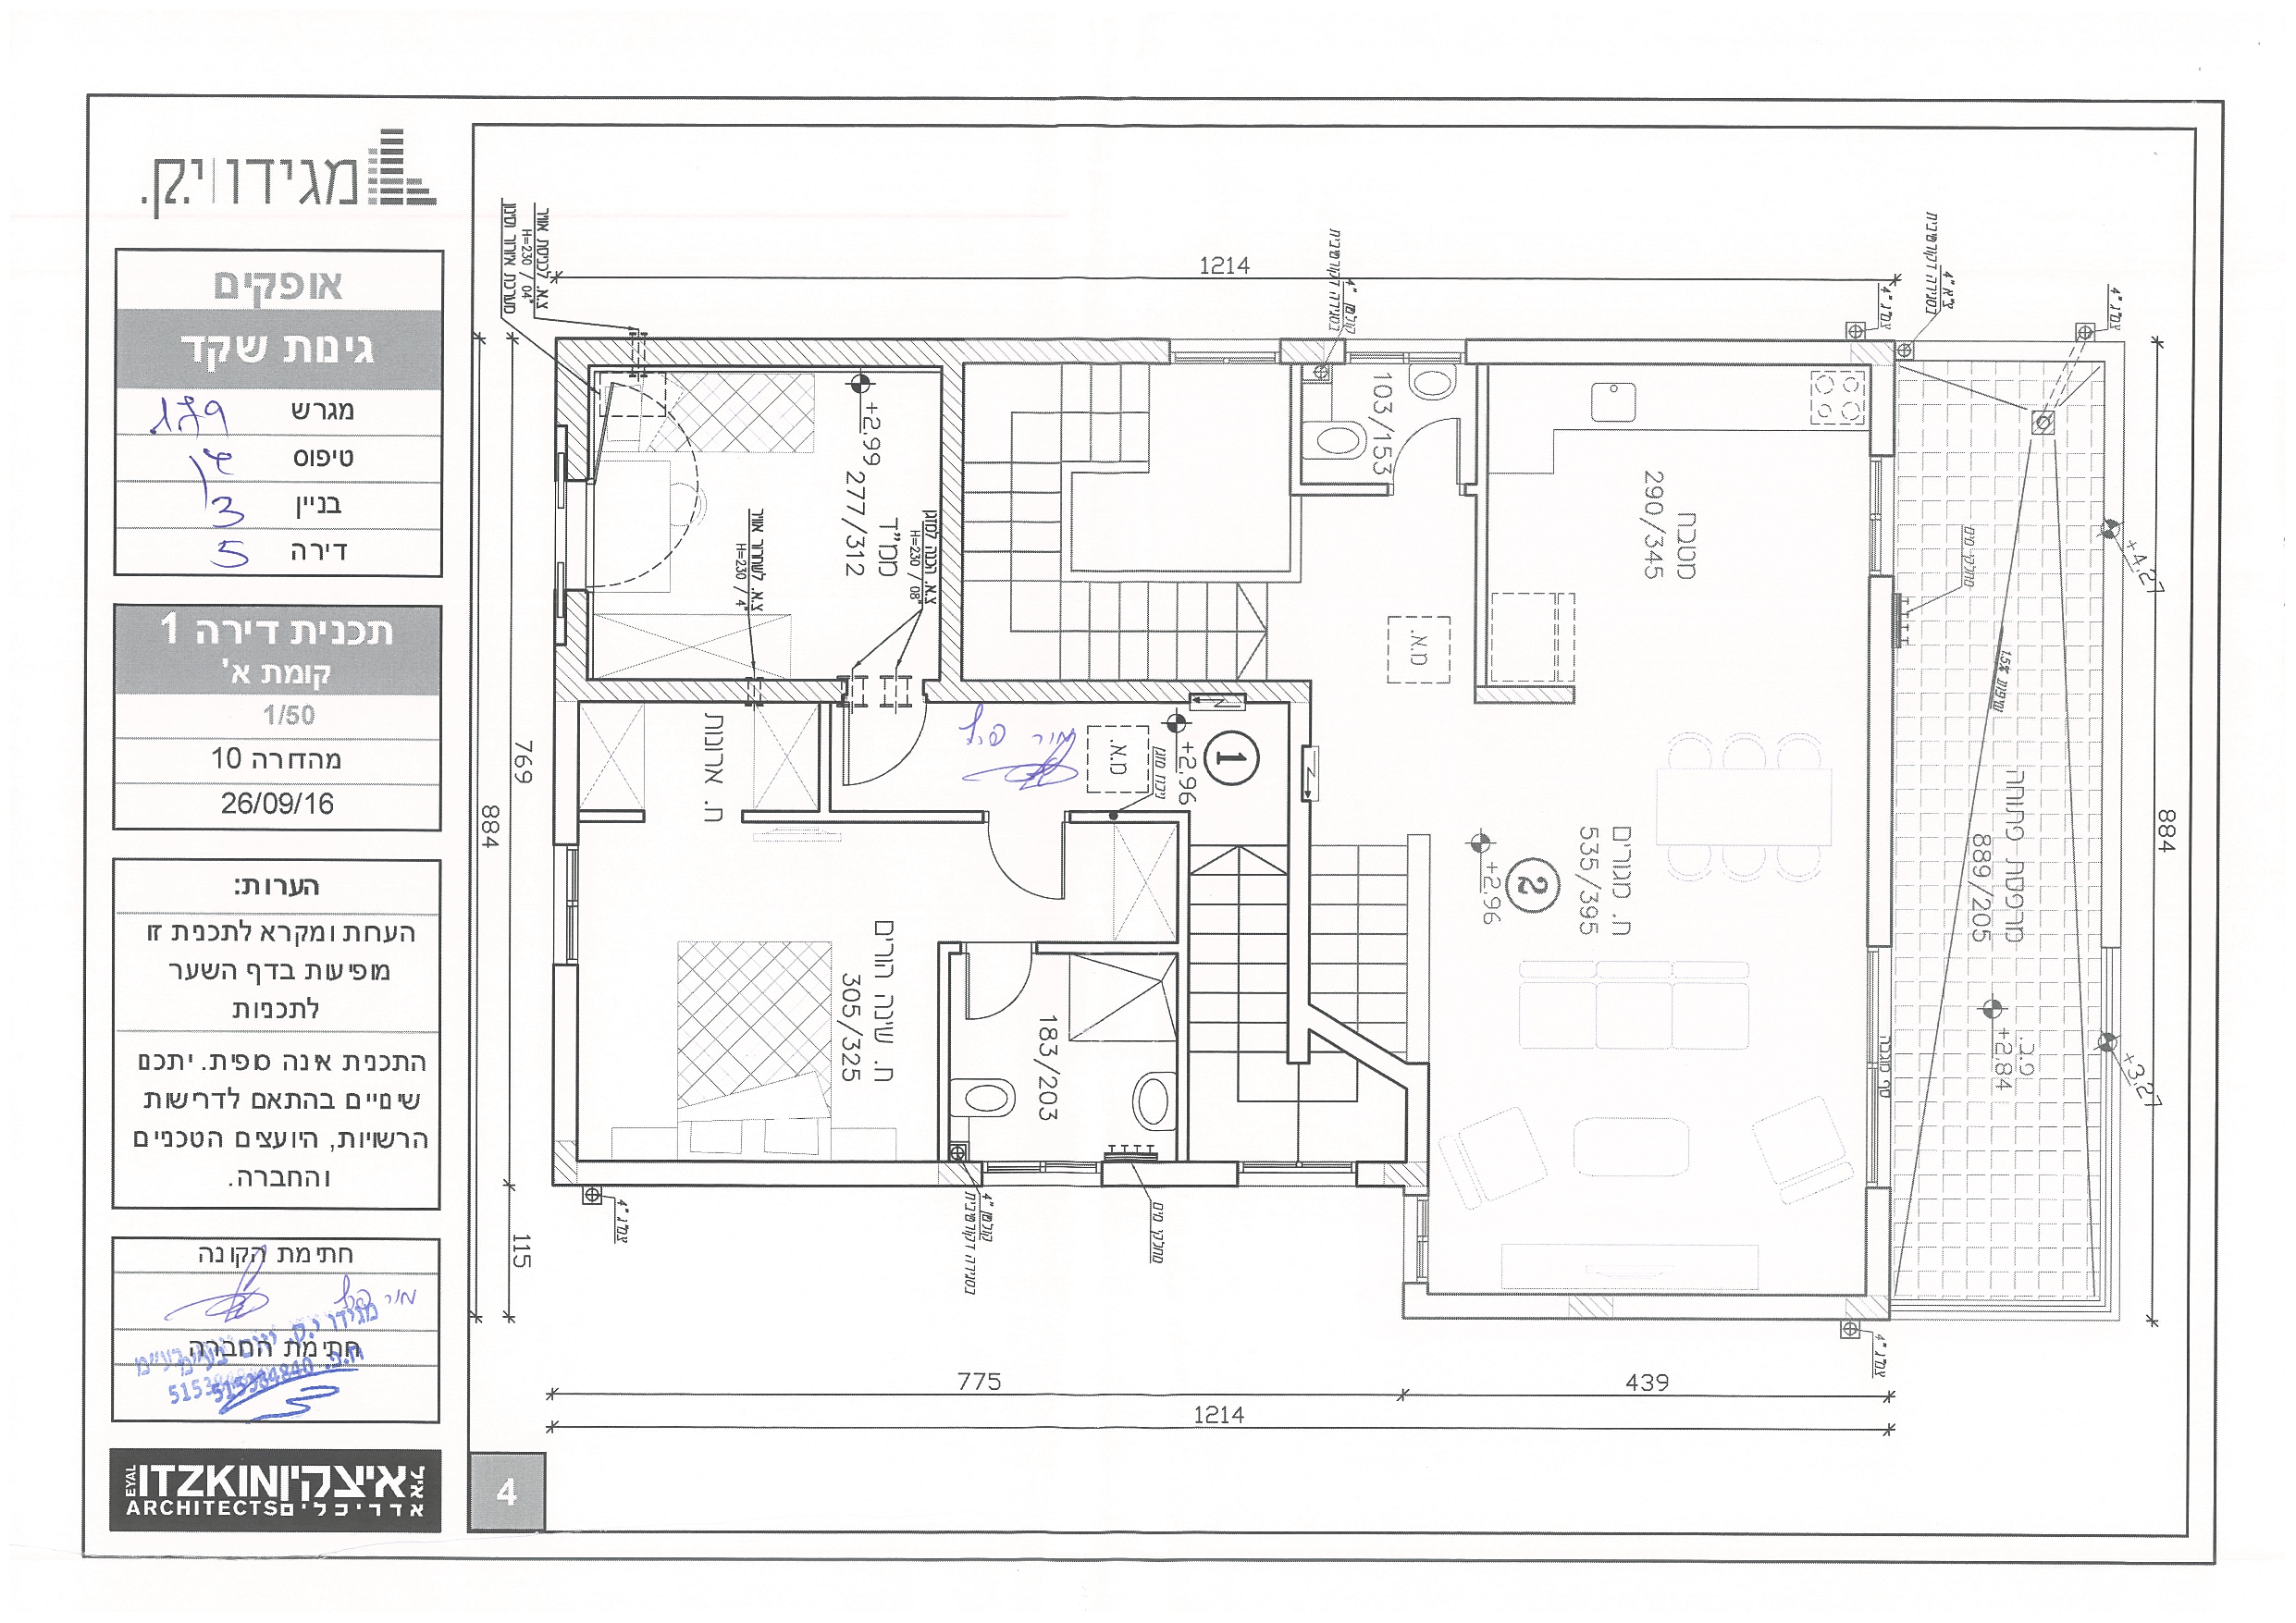door: (838, 710, 931, 796), (982, 824, 1075, 908), (1388, 411, 1470, 481), (959, 957, 1035, 1021)
wall: (646, 337, 961, 365), (942, 365, 961, 678), (929, 682, 1188, 703), (963, 339, 1170, 364)
window: (1866, 949, 1888, 1189), (1867, 453, 1897, 578), (1344, 339, 1467, 367), (1237, 1161, 1356, 1189), (982, 1161, 1101, 1189), (553, 845, 580, 964), (1172, 339, 1284, 362), (1402, 1189, 1428, 1284)
